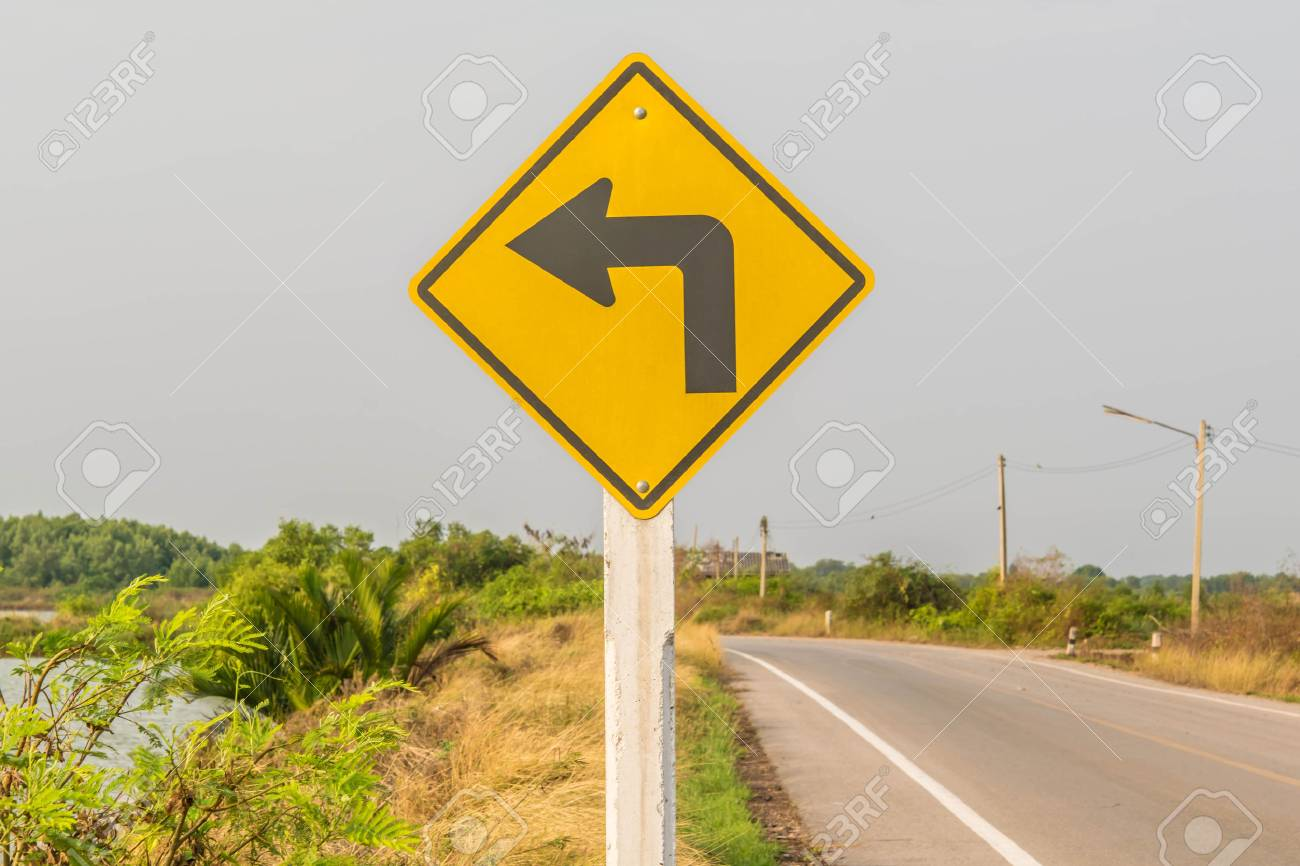left: (406, 52, 881, 523)
